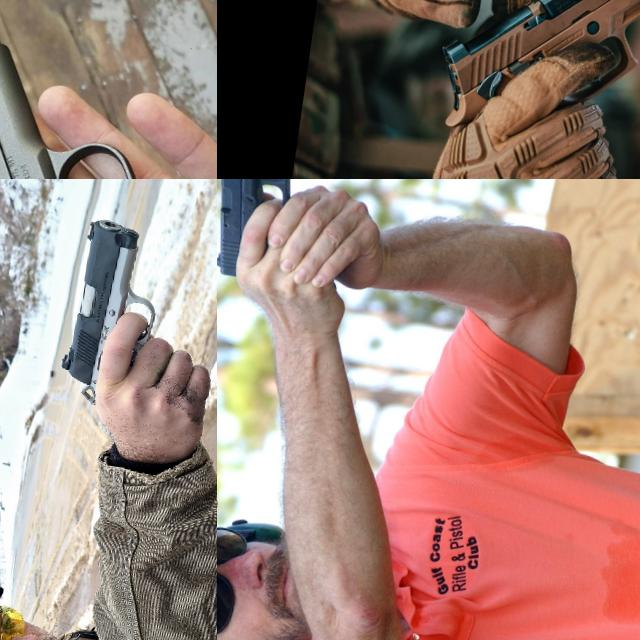handgun: (0, 0, 217, 179), (427, 0, 640, 163), (53, 210, 170, 413), (217, 179, 305, 286)
